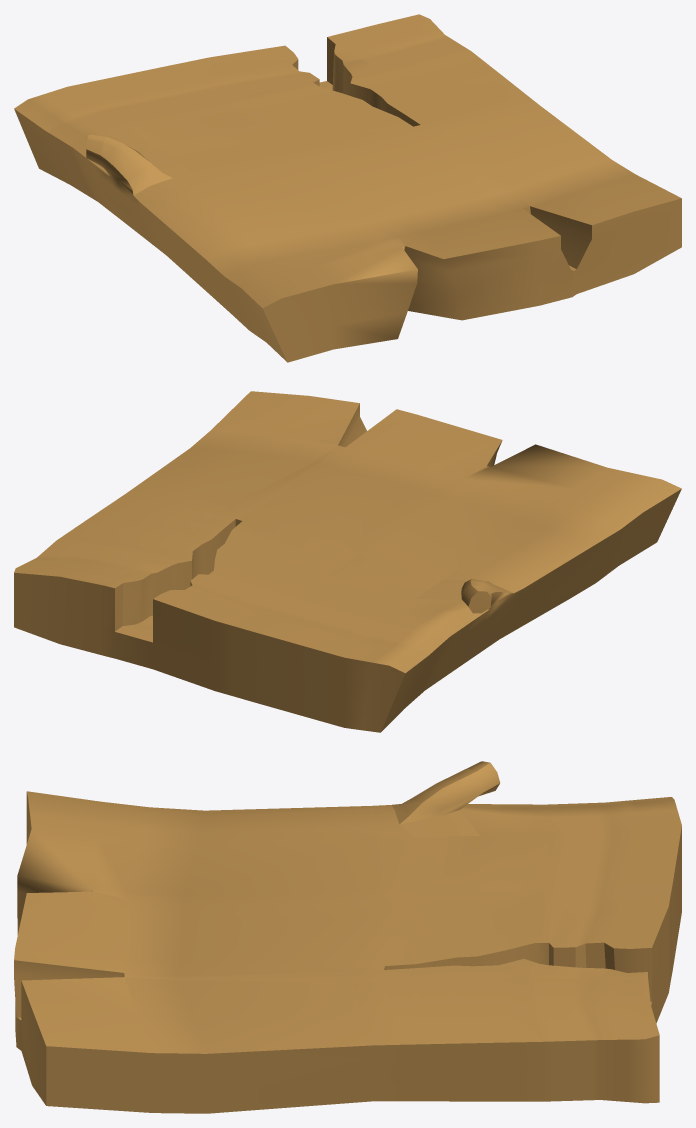
The model's file is cuttingboard.glb.
3 views of the same model, one above another, from view 1: azimuth 30°, elevation 25°; view 2: azimuth 150°, elevation 25°; view 3: azimuth 270°, elevation 25° (orthographic). The views are drawn at different scales.
Parts seen in each view (by area): view 1: Cuttingboard; view 2: Cuttingboard; view 3: Cuttingboard.
Boxes of the visible parts, x1,y1,x2,y2 form: Cuttingboard: (14, 14, 681, 362); Cuttingboard: (14, 391, 681, 732); Cuttingboard: (14, 761, 681, 1113).
Bounding box in the file's own units: 1.49 × 0.3329 × 1.65.
